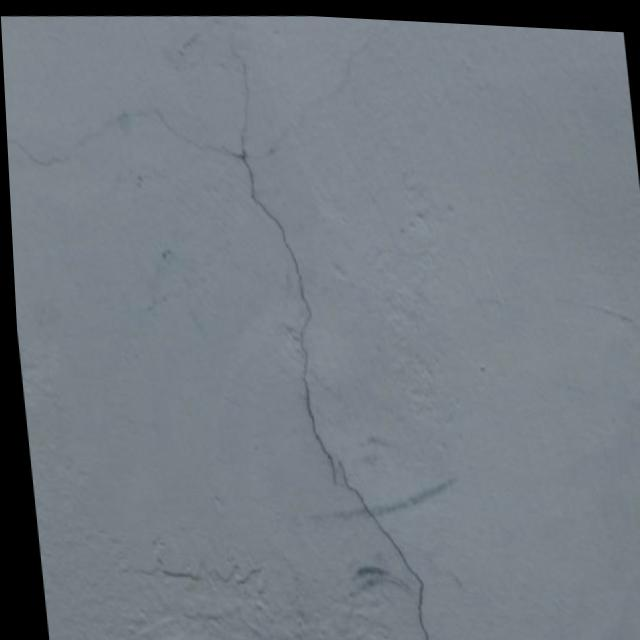Crack: (196, 87, 439, 640)
